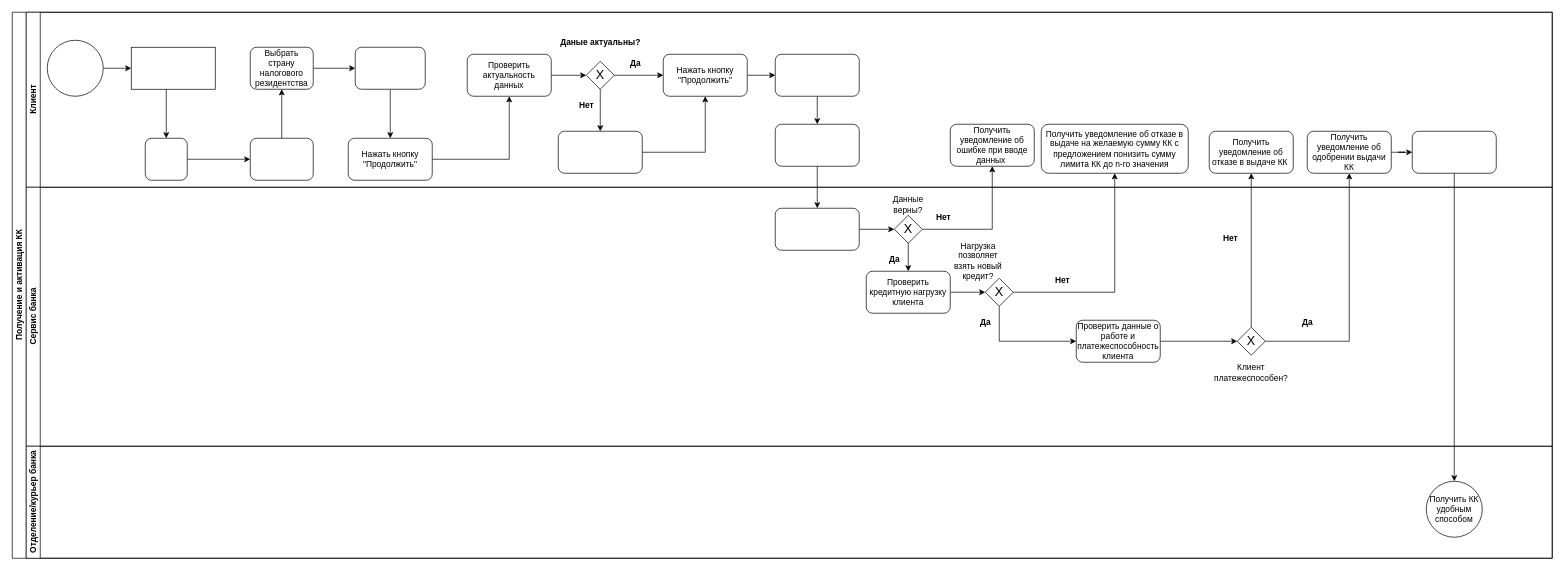
Image size: 1565x571. Some labels were removed from this diagram. The centre of each missing label's shape, as x and y in pixels:
Ввести данные о доходах и работе: point (817, 75)
Вход в приложение: point (75, 68)
Выбрать вид карты (пластиковая/виртуальная): point (281, 159)
Выбрать удобный способ и время получения КК: point (1454, 152)
Задать сумму лимита: point (166, 159)
Изменить данные на актуальные: point (600, 152)
Карты->Оформить КК: point (173, 68)
Ознакомиться с информацией о тарифах: point (390, 68)
Оформить заявку: point (817, 145)
Проверить актуальность паспортных данных: point (817, 229)
